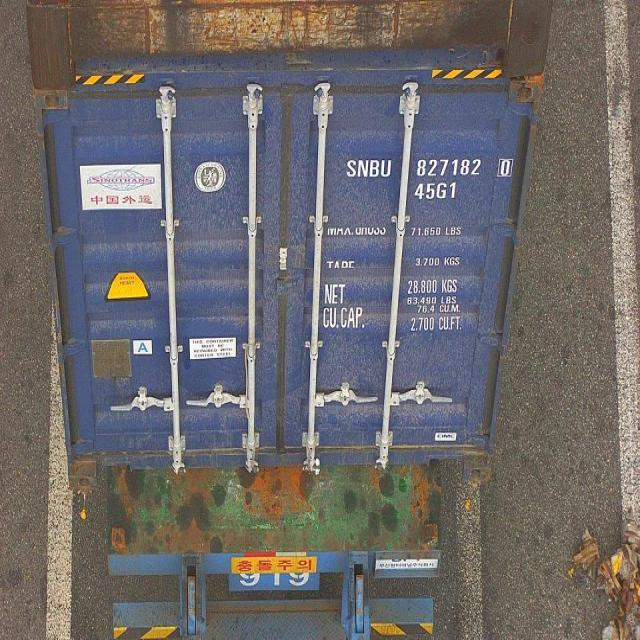ISO: (414, 180, 460, 198)
container_number: (342, 156, 514, 183)
